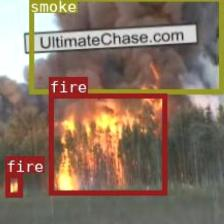fire: (49, 93, 166, 194), (5, 172, 22, 196)
smoke: (29, 0, 223, 93)
